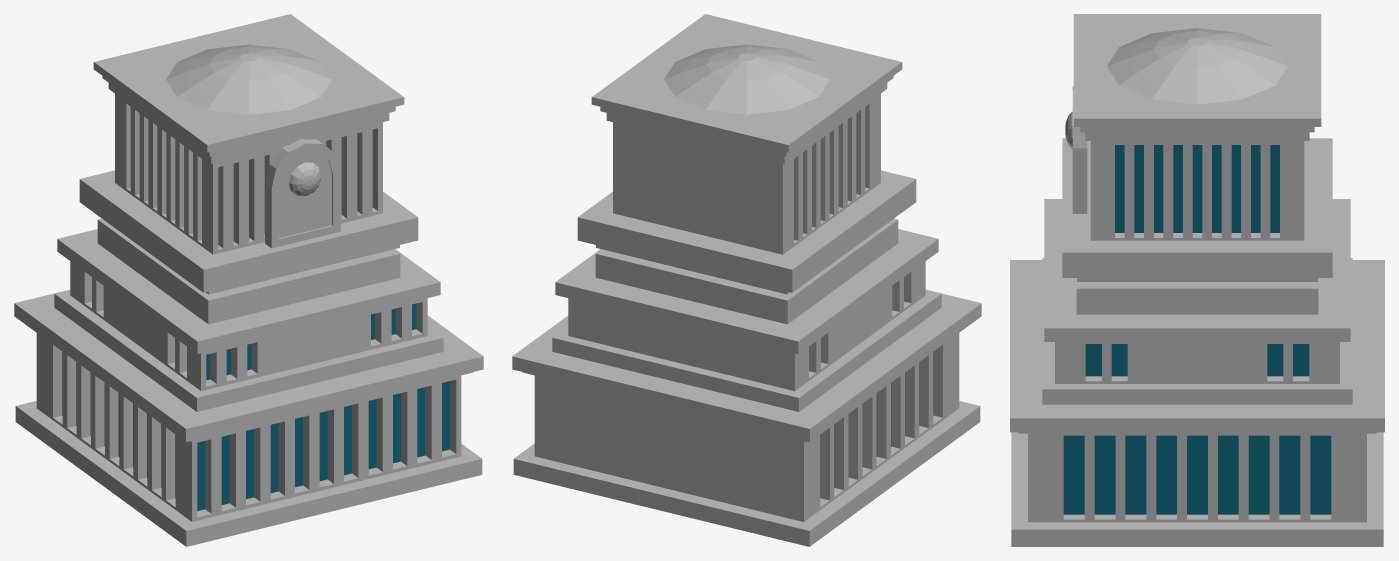
Rendered from cathedral.fbx.
The picture shows the model from 3 angles, left to right: view 1: azimuth 30°, elevation 25°; view 2: azimuth 150°, elevation 25°; view 3: azimuth 270°, elevation 25°; orthographic projection. The views are drawn at different scales.
Parts seen in each view (by area): view 1: cathedral; view 2: cathedral; view 3: cathedral.
Boxes of the visible parts, <box> form: cathedral: <box>14,14,483,546</box>; cathedral: <box>512,14,981,546</box>; cathedral: <box>1010,14,1384,546</box>.
Bounding box in the file's own units: 12.81 × 16.08 × 12.81.
